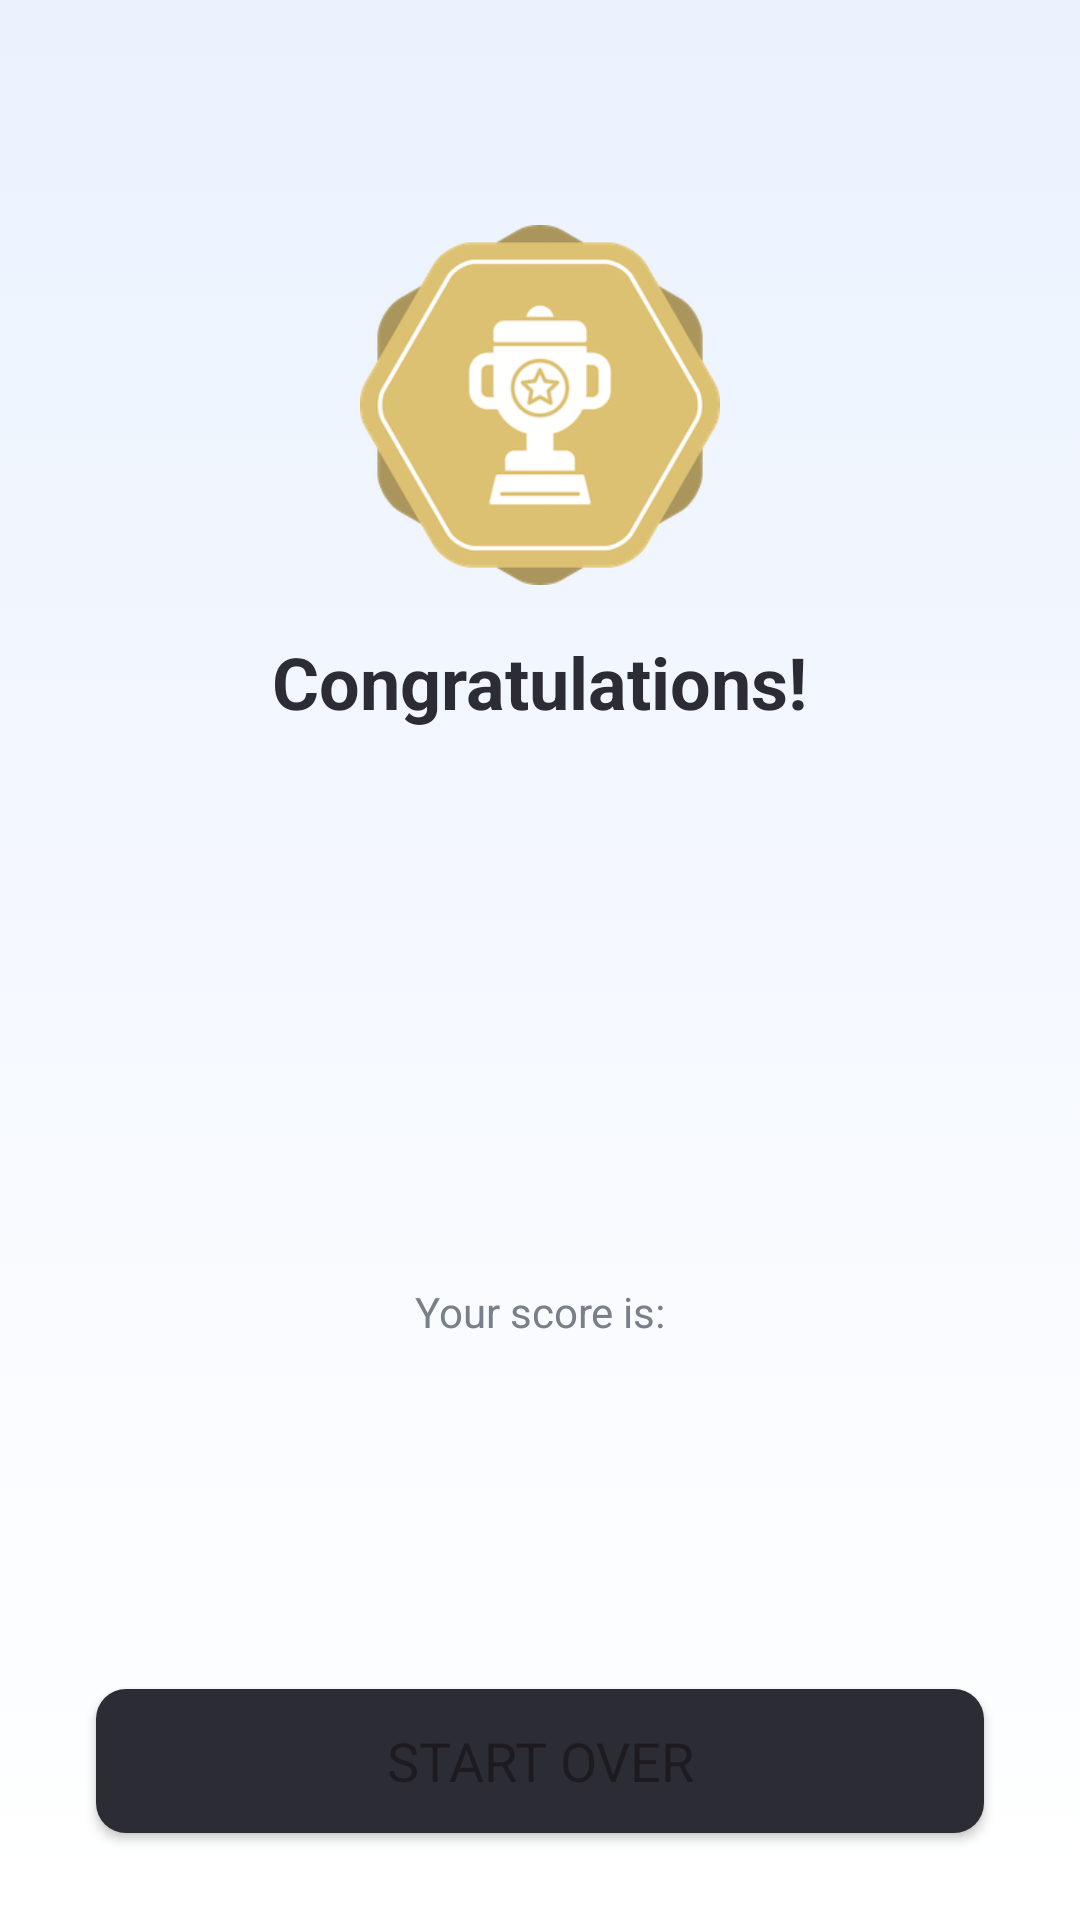

Where icons sit on this 1080*1920 app screen, as {"x1": x1, "y1": y1, "x2": x2, "y2": y2}:
cup: {"x1": 360, "y1": 225, "x2": 720, "y2": 585}
